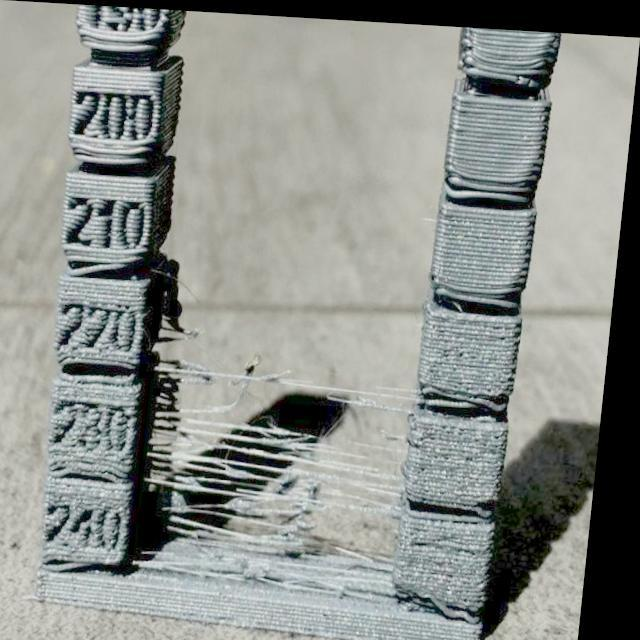stringing: (132, 344, 434, 596), (150, 250, 216, 343)
